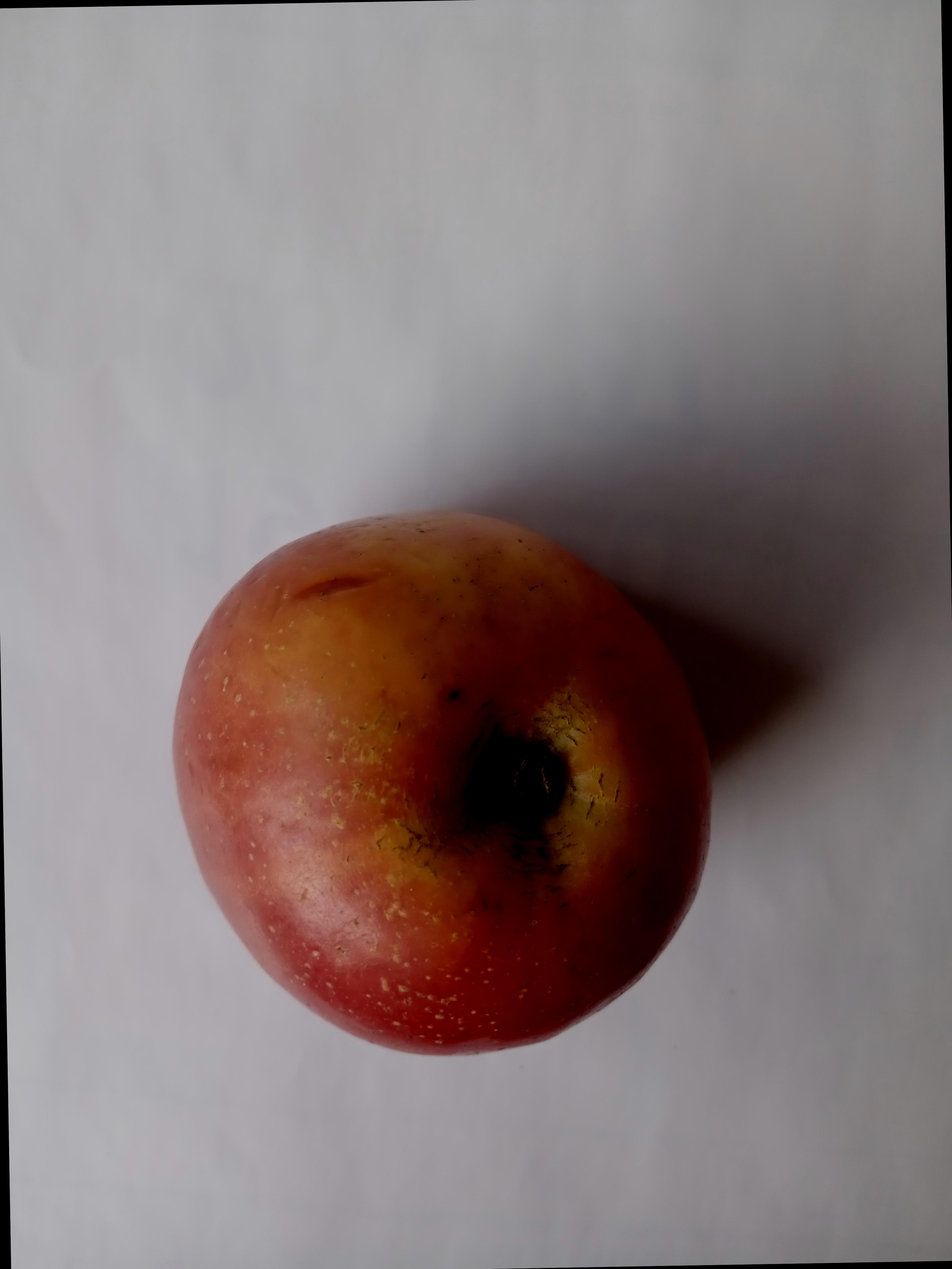Apple Ripe: (124, 480, 719, 1106)
